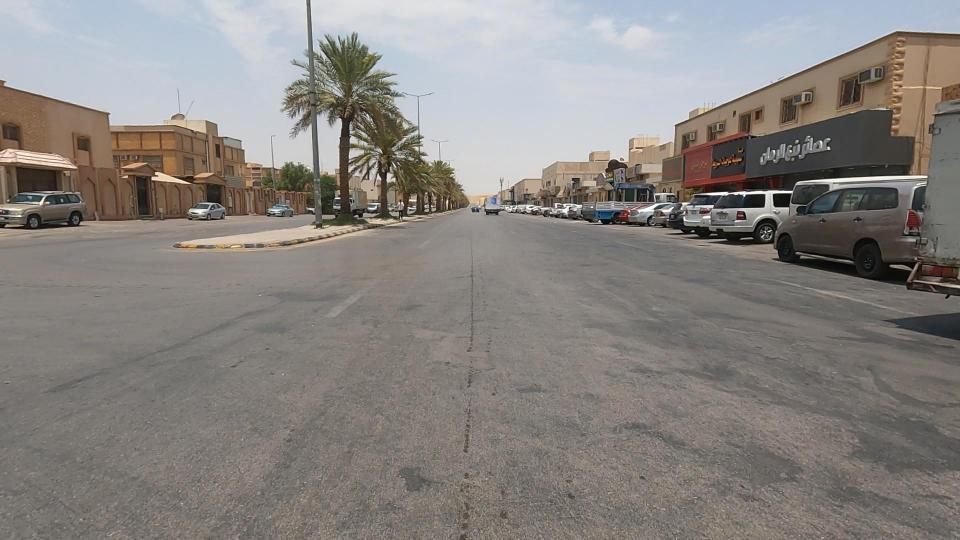BAD_BILLBOARD: (640, 134, 708, 205)
